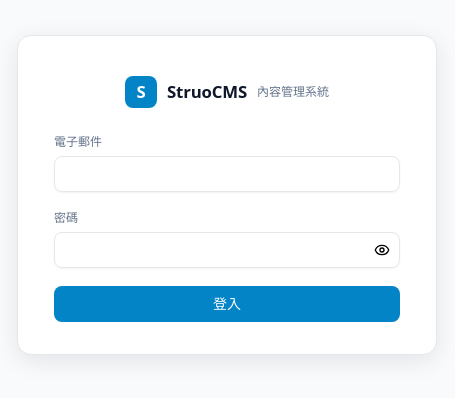
Scenario: LoginView › shows an error message when login fails
The width and height of the screenshot is (455, 398).
In the field labelled "電子郵件": (227, 174) [54,156,400,192], type "a@b.com"
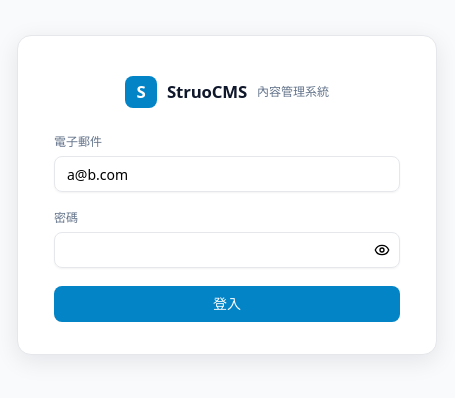
In the password field labelled "密碼": (227, 250) [54,232,400,268], type "bad"
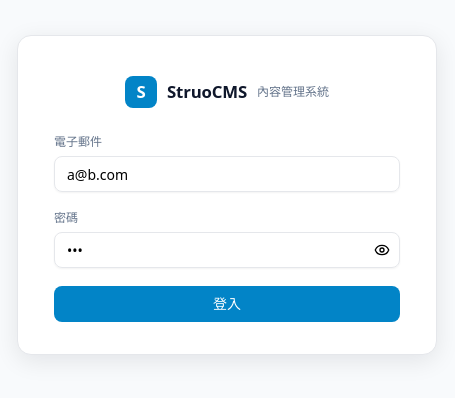
Submit the form, box [54,134,400,322]
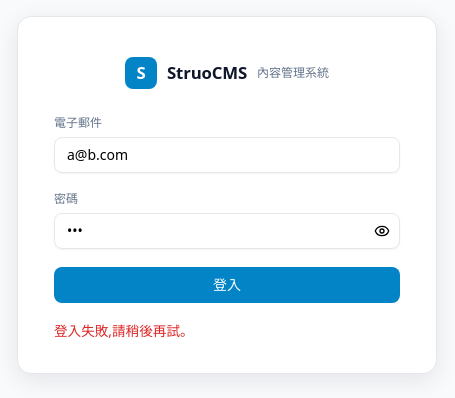
Expected: the text "登入失敗,請稍後再試。" is shown, [54,321,194,340]
